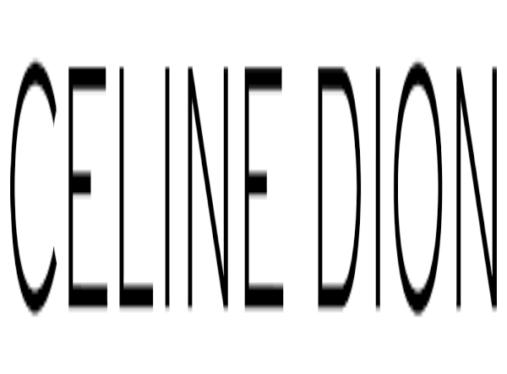CELINE: (10, 9, 289, 346)
